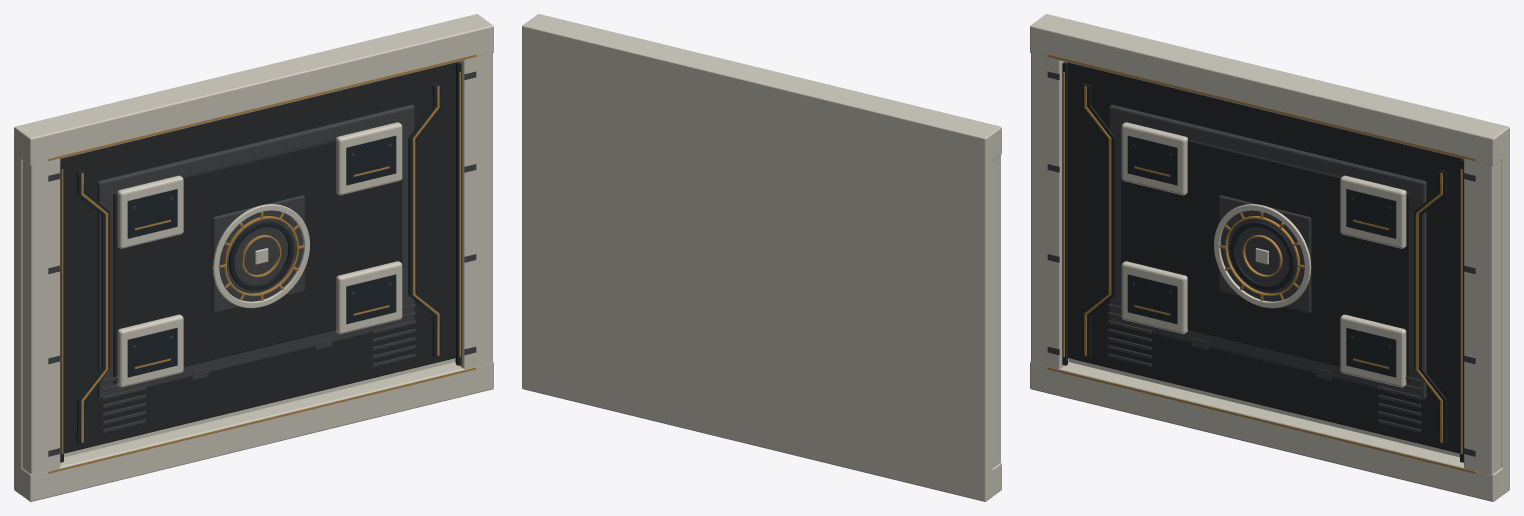
Rendered from SM_Aurelion_KIT_Z12ServiceRegister.fbx.
The picture shows the model from 3 angles, left to right: view 1: azimuth 30°, elevation 25°; view 2: azimuth 150°, elevation 25°; view 3: azimuth 330°, elevation 25°; orthographic projection.
Visible parts, largest first — view 1: SM_Aurelion_KIT_Z12ServiceRegister; view 2: SM_Aurelion_KIT_Z12ServiceRegister; view 3: SM_Aurelion_KIT_Z12ServiceRegister.
Part boxes in pixels (x1,y1,x2,y2): SM_Aurelion_KIT_Z12ServiceRegister: (14, 14, 493, 501); SM_Aurelion_KIT_Z12ServiceRegister: (522, 14, 1001, 501); SM_Aurelion_KIT_Z12ServiceRegister: (1030, 14, 1509, 501).
Size of the model in its own units: 399 by 24.9 by 299.
